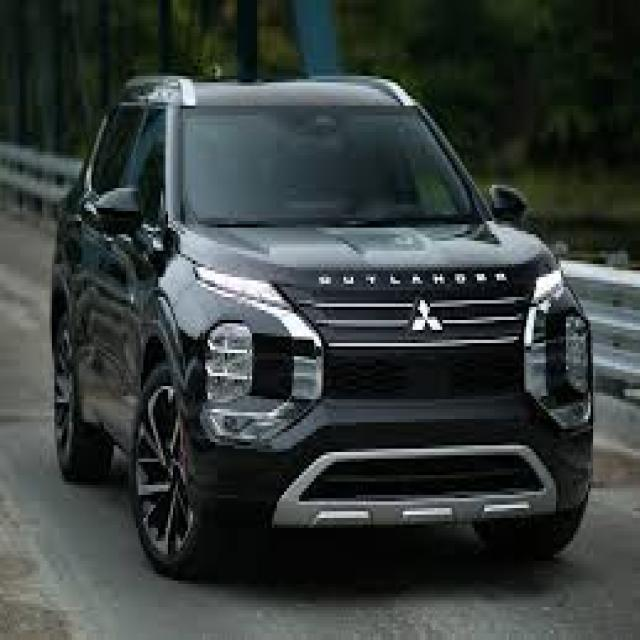light_vehicle: (48, 74, 597, 582)
